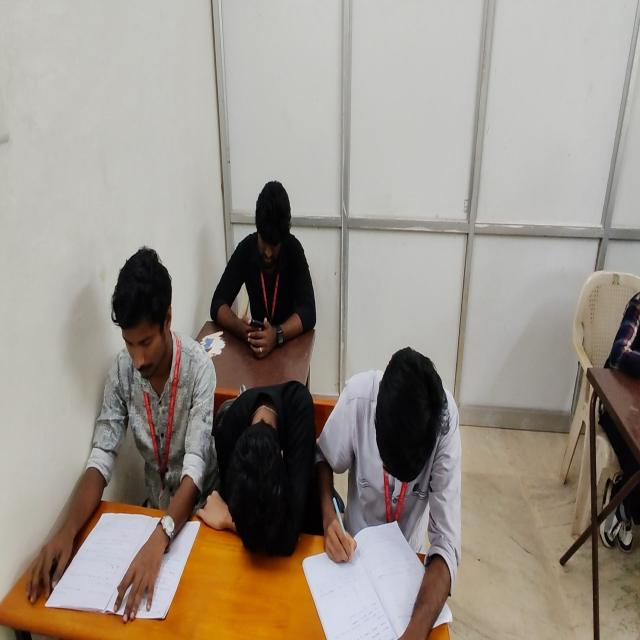reading: (27, 247, 221, 627), (307, 346, 453, 640)
sleeping: (212, 381, 316, 555)
using_mobile: (209, 180, 316, 358)
